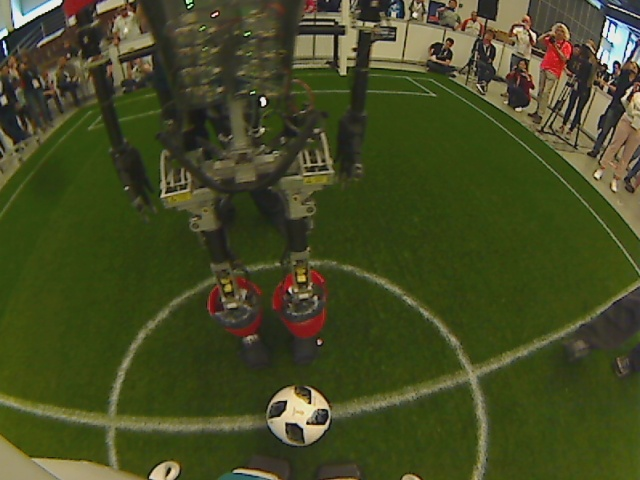ball: (263, 379, 336, 450)
